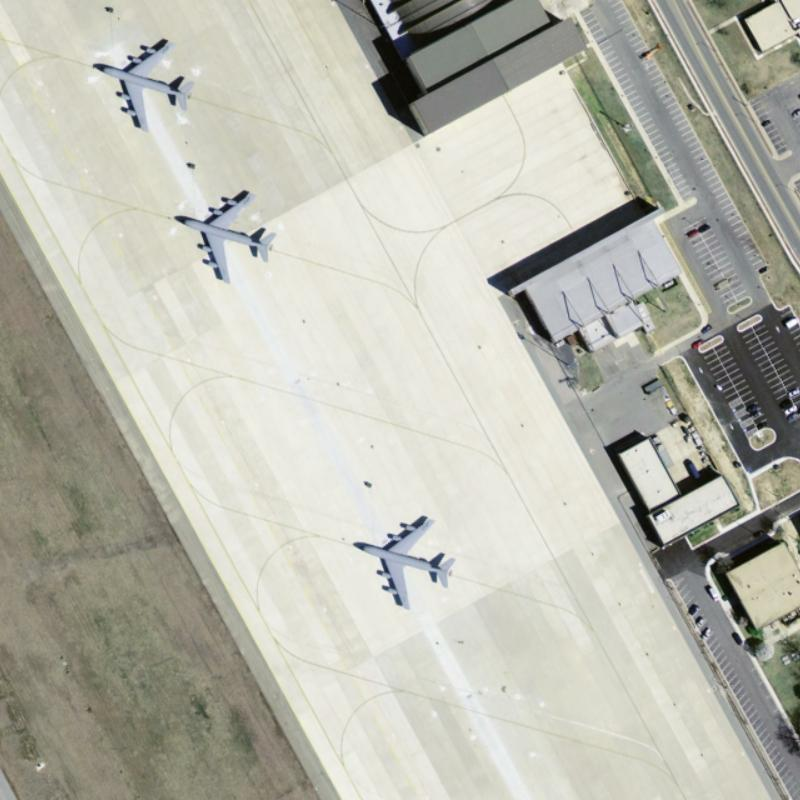A14: (349, 505, 459, 610), (86, 34, 200, 132), (170, 185, 281, 285)
